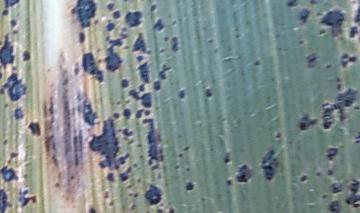tarspot: (88, 116, 131, 171), (320, 75, 358, 132), (140, 117, 163, 172), (102, 32, 129, 74), (1, 72, 28, 102), (320, 8, 344, 40), (80, 51, 103, 84), (256, 148, 279, 181), (70, 1, 97, 29), (1, 33, 16, 71), (153, 63, 171, 93), (127, 88, 152, 109), (344, 178, 360, 210), (131, 31, 152, 54), (143, 182, 163, 206), (81, 100, 97, 128), (16, 188, 36, 209), (298, 113, 319, 132), (1, 165, 20, 185), (234, 163, 252, 183), (123, 11, 143, 28), (136, 61, 150, 84), (1, 188, 13, 213), (27, 121, 42, 139), (303, 53, 319, 69), (330, 180, 344, 196), (352, 1, 360, 28), (341, 52, 355, 67), (297, 8, 310, 23), (325, 147, 338, 161), (13, 106, 25, 121), (170, 36, 180, 54), (9, 19, 20, 35), (7, 151, 19, 165), (328, 199, 340, 213), (121, 126, 134, 138), (348, 26, 359, 40), (153, 18, 163, 33), (122, 106, 132, 121), (3, 1, 21, 9), (22, 49, 32, 63), (120, 77, 130, 91), (104, 22, 115, 34), (133, 107, 143, 120), (78, 30, 86, 44), (110, 9, 120, 20), (118, 172, 129, 182), (185, 180, 194, 192), (204, 87, 213, 99), (178, 88, 186, 101), (354, 130, 360, 147), (106, 172, 115, 183), (106, 2, 115, 11), (86, 205, 96, 213), (157, 48, 167, 56), (274, 130, 282, 140), (299, 173, 307, 183), (112, 111, 119, 122), (286, 1, 298, 7), (73, 65, 79, 77), (352, 104, 360, 113), (252, 60, 262, 67), (144, 109, 152, 117), (297, 38, 305, 46), (150, 3, 157, 12), (138, 84, 145, 93), (318, 29, 327, 36), (3, 139, 10, 147), (136, 55, 144, 62), (223, 157, 230, 165), (1, 9, 8, 17), (207, 38, 214, 46), (182, 146, 191, 152), (327, 168, 333, 177), (184, 166, 191, 173), (325, 63, 332, 70), (162, 35, 169, 42), (321, 193, 328, 200), (155, 207, 163, 213), (177, 152, 183, 160), (309, 1, 318, 6), (168, 206, 174, 213), (173, 165, 180, 171), (234, 33, 241, 39), (226, 179, 232, 186), (315, 171, 322, 177), (316, 11, 322, 17), (1, 71, 4, 81)
